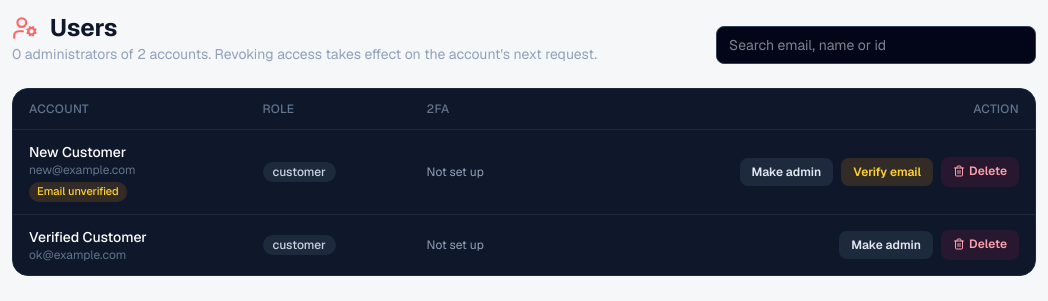
Scenario: AdminUsersPage: verify email › requires a reason before it will send anything
Click the button "Verify email" at (887, 172), box [841,158,933,186]
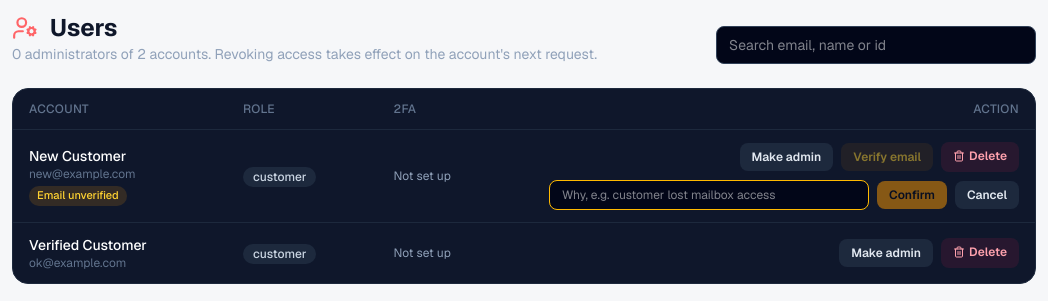
Expected: the button "Confirm" is disabled, [877,181,947,209]
Type "lo" into the field named "reason" at (709, 195), box [549,180,869,210]
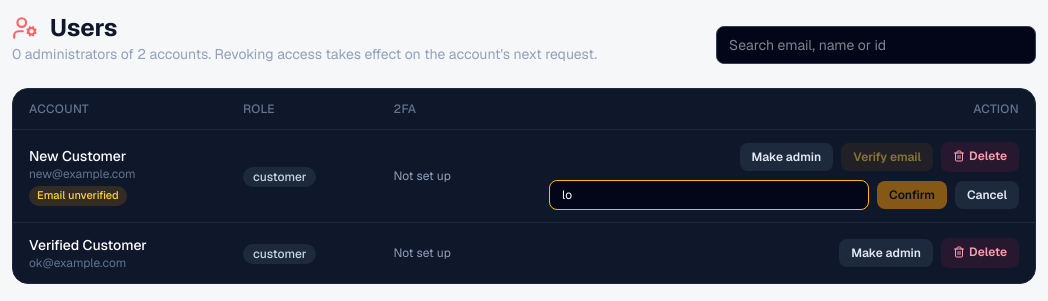
Expected: the button "Confirm" is disabled, [877,181,947,209]
Replace the text in the field named "reason" with "customer lost mailbox access" at (709, 195), box [549,180,869,210]
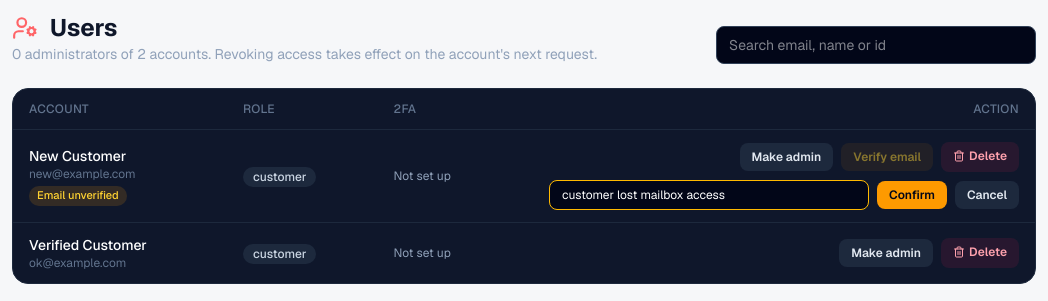
Expected: the button "Confirm" is enabled, [877,181,947,209]
